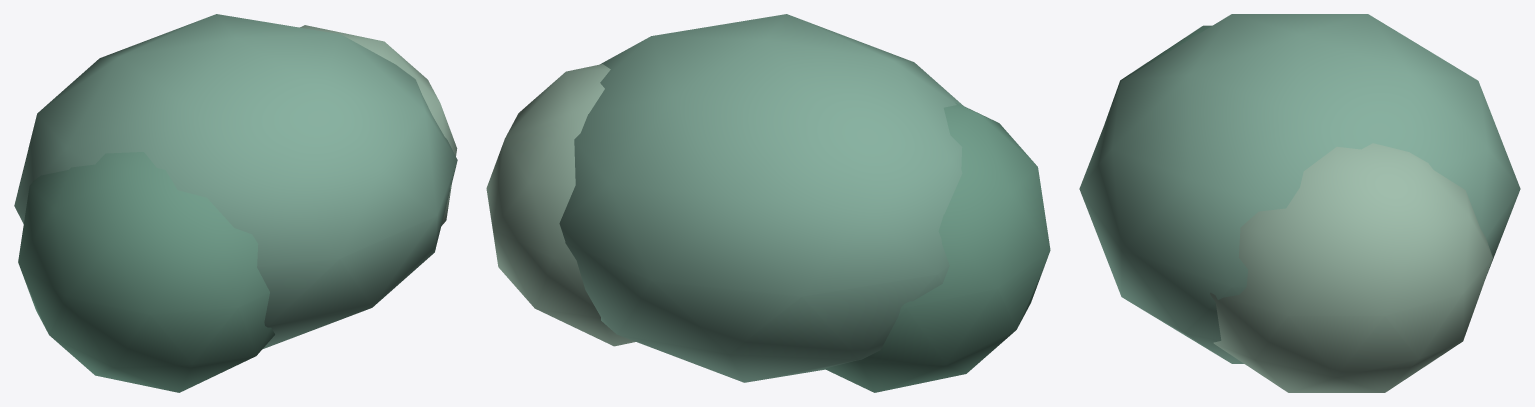
File: bush.glb
The picture shows the model from 3 angles, left to right: view 1: azimuth 30°, elevation 25°; view 2: azimuth 150°, elevation 25°; view 3: azimuth 270°, elevation 25°; orthographic projection. The views are drawn at different scales.
Parts seen in each view (by area): view 1: bush; view 2: bush; view 3: bush.
Part boxes in pixels (x1,y1,x2,y2): bush: (14,14,457,392); bush: (486,14,1050,392); bush: (1079,14,1520,392).
Size of the model in its own units: 0.6 by 0.4 by 0.5.
